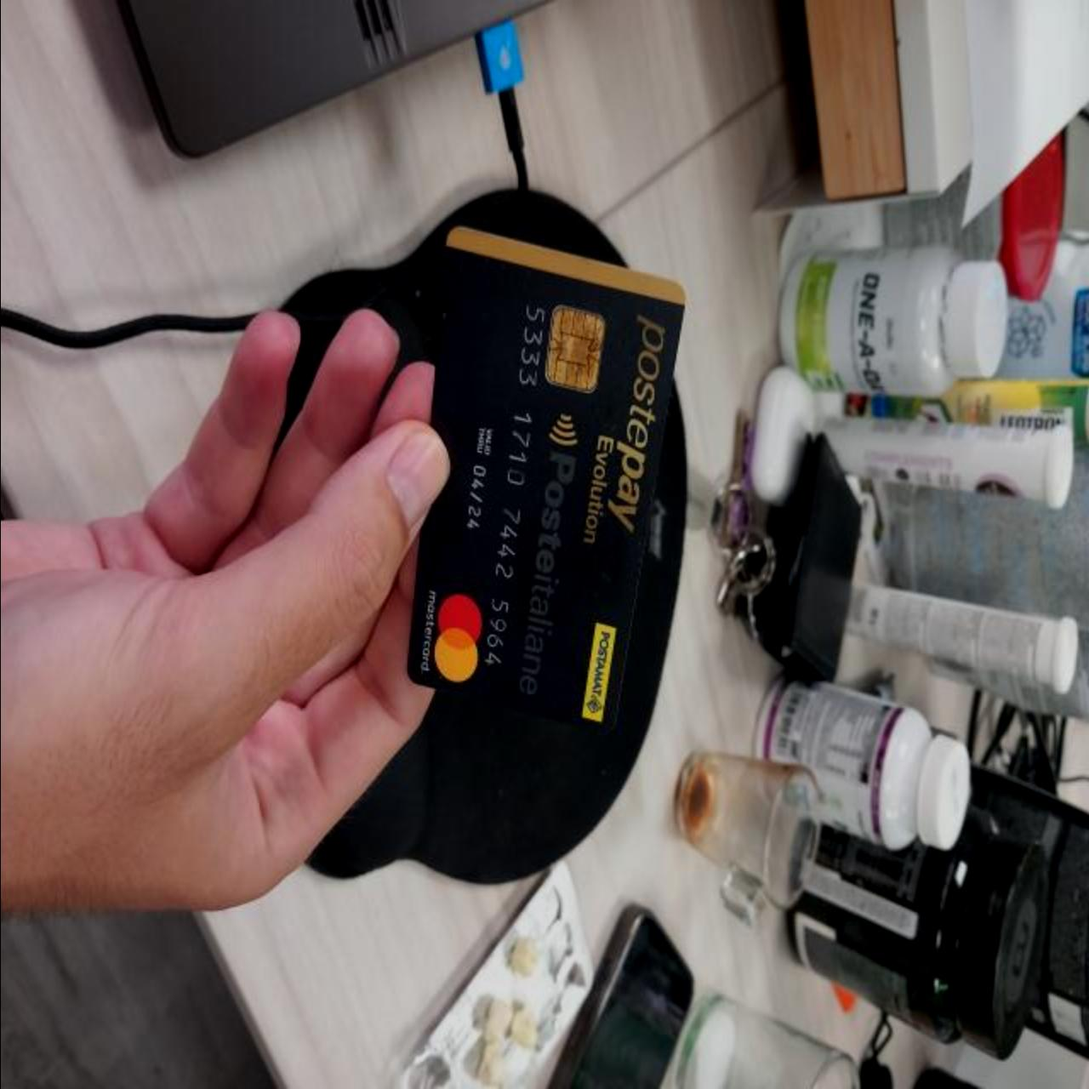credit_card: (395, 214, 694, 732)
